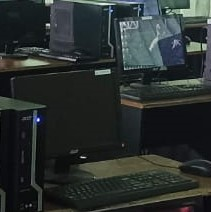monitor: (114, 14, 191, 81), (0, 0, 49, 51), (159, 0, 190, 10)
